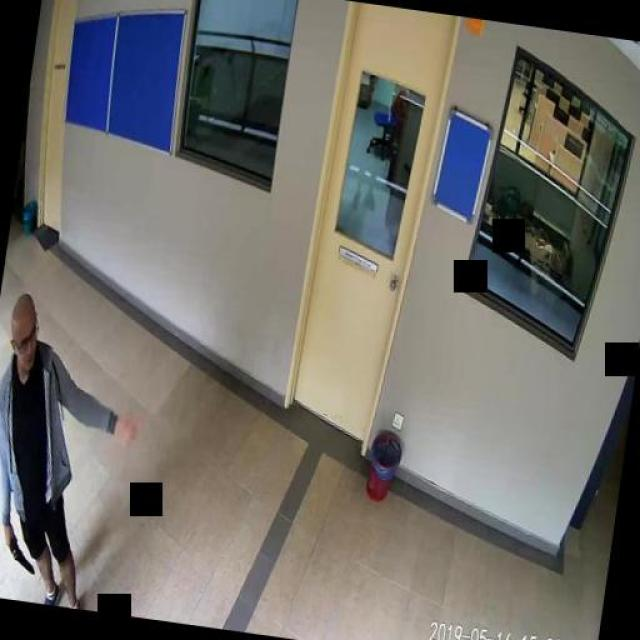gun: (5, 534, 37, 570)
